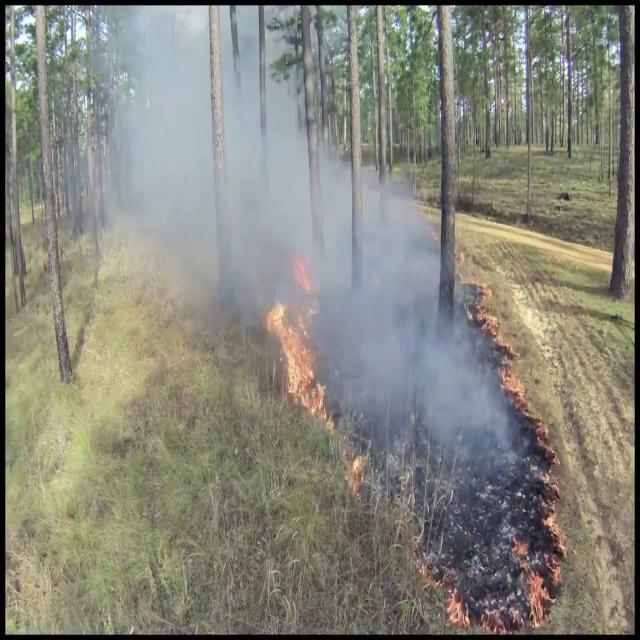Fire: (264, 279, 328, 423)
Smoke: (314, 150, 528, 532), (93, 7, 323, 347)
